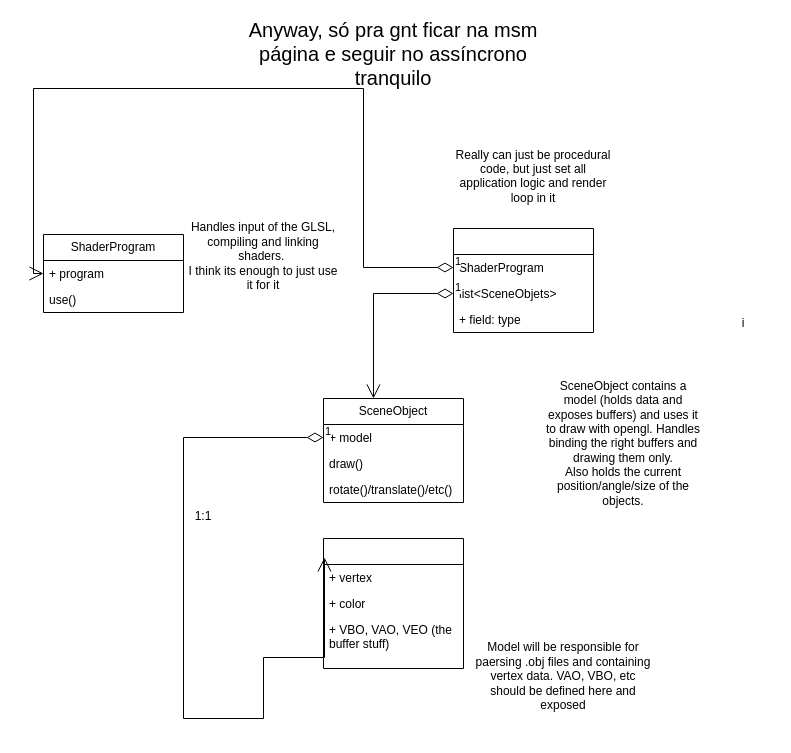
Some shapes in this 791 by 753 pixel diagram are drawn without their labels. Here are the shapes that lost their labels. From the top down, the box of each, then its label:
(452, 228, 594, 332): Application
(322, 538, 464, 668): Model
